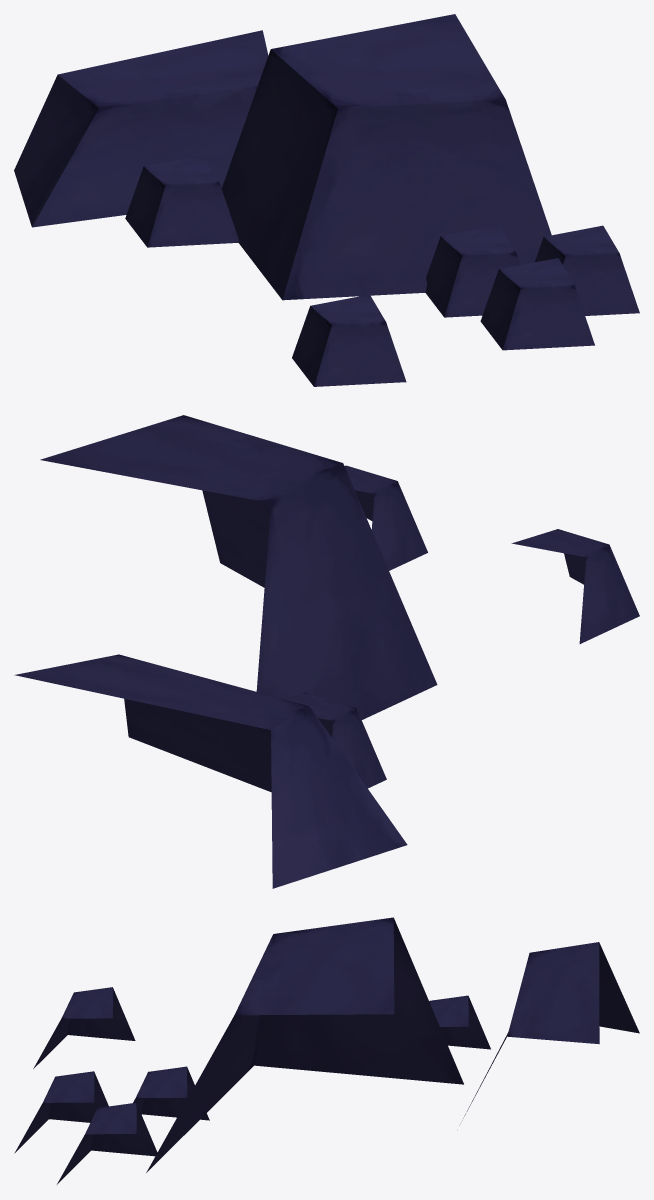
Rendered from Rocks.fbx.
3 views of the same model, one above another, from view 1: azimuth 30°, elevation 25°; view 2: azimuth 150°, elevation 25°; view 3: azimuth 270°, elevation 25° (orthographic). The views are drawn at different scales.
Parts seen in each view (by area): view 1: pCube576; view 2: pCube576; view 3: pCube576.
Boxes of the visible parts, x1,y1,x2,y2 form: pCube576: (14, 14, 639, 386); pCube576: (14, 415, 639, 888); pCube576: (14, 917, 639, 1184).
Bounding box in the file's own units: 2.9 × 1.36 × 4.37.
